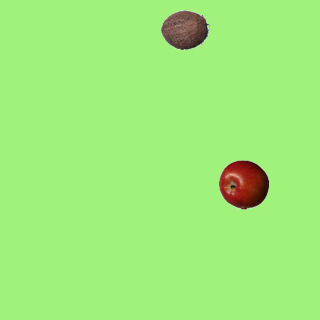Apple Braeburn: (218, 159, 268, 209)
Cocos: (159, 4, 209, 54)
